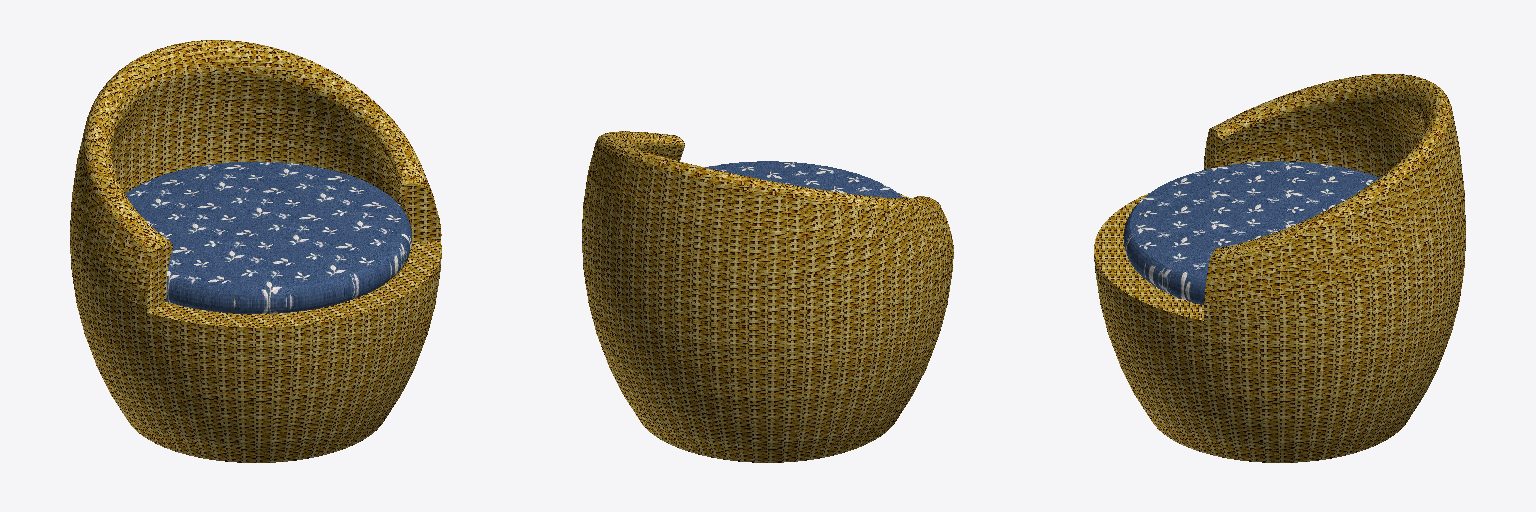
3 renders of one model, left to right at view 1: azimuth 30°, elevation 25°; view 2: azimuth 150°, elevation 25°; view 3: azimuth 270°, elevation 25°, orthographic.
Parts seen in each view (by area): view 1: Mesh2 fauteuil_jardin_boulle1 Sans_titre1 Model, Mesh1 Groupe_2_1 fauteuil_jardin_boulle1 Sans_titre1 Model; view 2: Mesh2 fauteuil_jardin_boulle1 Sans_titre1 Model, Mesh1 Groupe_2_1 fauteuil_jardin_boulle1 Sans_titre1 Model; view 3: Mesh2 fauteuil_jardin_boulle1 Sans_titre1 Model, Mesh1 Groupe_2_1 fauteuil_jardin_boulle1 Sans_titre1 Model.
Part boxes in pixels (x1,y1,x2,y2): Mesh2 fauteuil_jardin_boulle1 Sans_titre1 Model: (70,40,441,462); Mesh1 Groupe_2_1 fauteuil_jardin_boulle1 Sans_titre1 Model: (125,161,411,313); Mesh2 fauteuil_jardin_boulle1 Sans_titre1 Model: (582,131,953,462); Mesh1 Groupe_2_1 fauteuil_jardin_boulle1 Sans_titre1 Model: (705,161,902,197); Mesh2 fauteuil_jardin_boulle1 Sans_titre1 Model: (1094,74,1465,462); Mesh1 Groupe_2_1 fauteuil_jardin_boulle1 Sans_titre1 Model: (1123,161,1379,304).
Bounding box in the file's own units: 35.34 × 31.6 × 35.28.
2 materials, 2 textured.